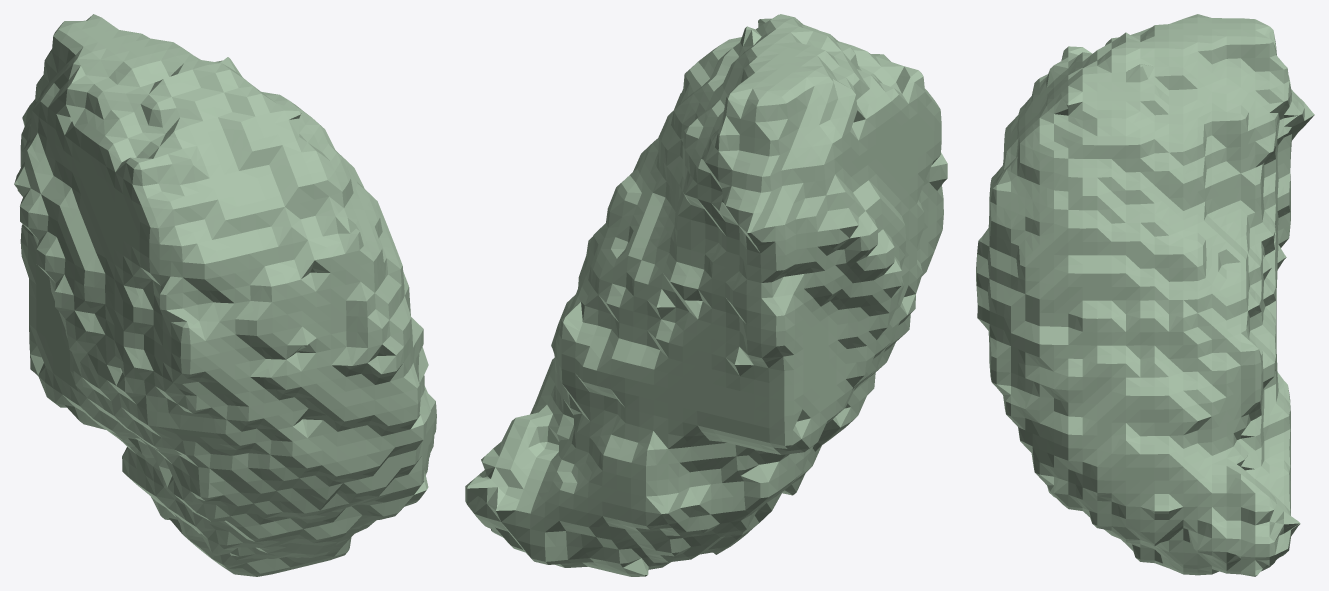
Rendered from r_thalamus.glb.
3 views of the same model, side by side, from view 1: azimuth 30°, elevation 25°; view 2: azimuth 150°, elevation 25°; view 3: azimuth 270°, elevation 25° (orthographic). The views are drawn at different scales.
Visible parts, largest first — view 1: world; view 2: world; view 3: world.
Boxes of the visible parts, x1,y1,x2,y2 form: world: [14, 14, 436, 576]; world: [465, 14, 947, 576]; world: [976, 14, 1314, 576].
Bounding box in the file's own units: 25.79 × 35 × 23.59.
